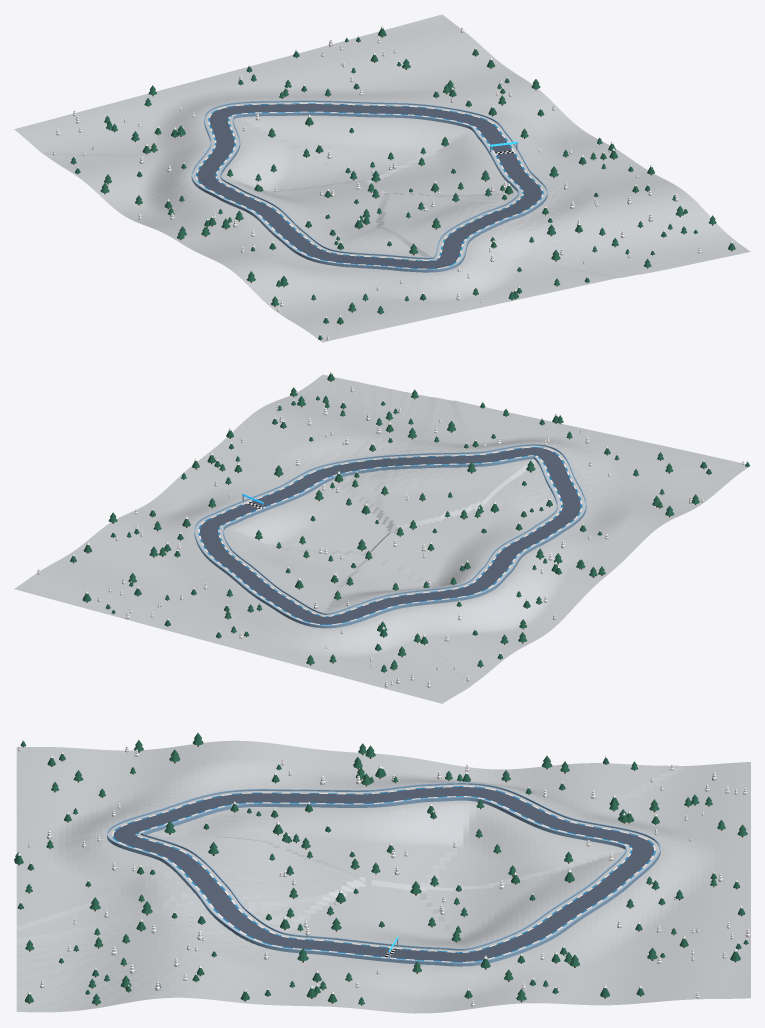
File: level_3.glb
3 renders of one model, top to bottom at view 1: azimuth 30°, elevation 25°; view 2: azimuth 150°, elevation 25°; view 3: azimuth 270°, elevation 25°, orthographic. The views are drawn at different scales.
Parts seen in each view (by area): view 1: Terrain, Road, Props_leaf, Wall_L, Wall_R, Props_leaf2, Shoulder_L, Curb_L, Shoulder_R, Curb_R; view 2: Terrain, Road, Props_leaf, Wall_L, Wall_R, Props_leaf2, Shoulder_L, Curb_L, Shoulder_R, Curb_R; view 3: Terrain, Road, Props_leaf, Wall_L, Wall_R, Props_leaf2, Shoulder_L, Curb_L, Shoulder_R, Curb_R.
Part boxes in pixels (<box>): Terrain: <box>14,14,750,342</box>; Road: <box>197,104,541,268</box>; Props_leaf: <box>70,28,735,339</box>; Wall_L: <box>191,100,547,272</box>; Wall_R: <box>220,112,519,259</box>; Props_leaf2: <box>52,25,732,340</box>; Shoulder_L: <box>192,102,546,267</box>; Curb_L: <box>195,103,543,269</box>; Shoulder_R: <box>217,115,522,260</box>; Curb_R: <box>215,111,523,260</box>; Terrain: <box>14,374,750,703</box>; Road: <box>200,447,580,624</box>; Props_leaf: <box>70,373,749,671</box>; Wall_L: <box>194,444,586,628</box>; Wall_R: <box>222,456,557,614</box>; Props_leaf2: <box>37,371,747,687</box>; Shoulder_L: <box>195,445,585,624</box>; Curb_L: <box>198,447,582,624</box>; Shoulder_R: <box>219,456,560,616</box>; Curb_R: <box>218,455,562,616</box>; Terrain: <box>16,740,750,1013</box>; Road: <box>113,787,653,961</box>; Props_leaf: <box>14,733,748,1004</box>; Wall_L: <box>107,782,660,966</box>; Wall_R: <box>140,797,626,950</box>; Props_leaf2: <box>17,739,750,1006</box>; Shoulder_L: <box>108,784,659,962</box>; Curb_L: <box>112,786,655,962</box>; Shoulder_R: <box>137,797,630,951</box>; Curb_R: <box>135,796,632,952</box>.
Bounding box in the file's own units: 385 × 30.12 × 479.
